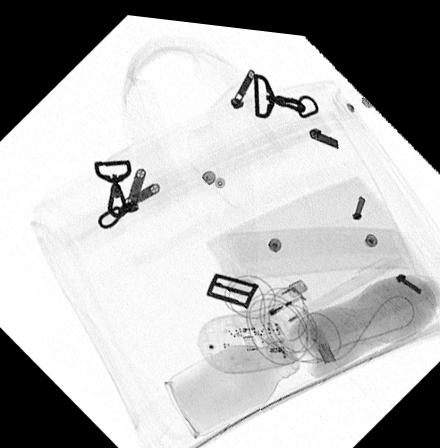Lighter: (230, 268, 315, 329)
